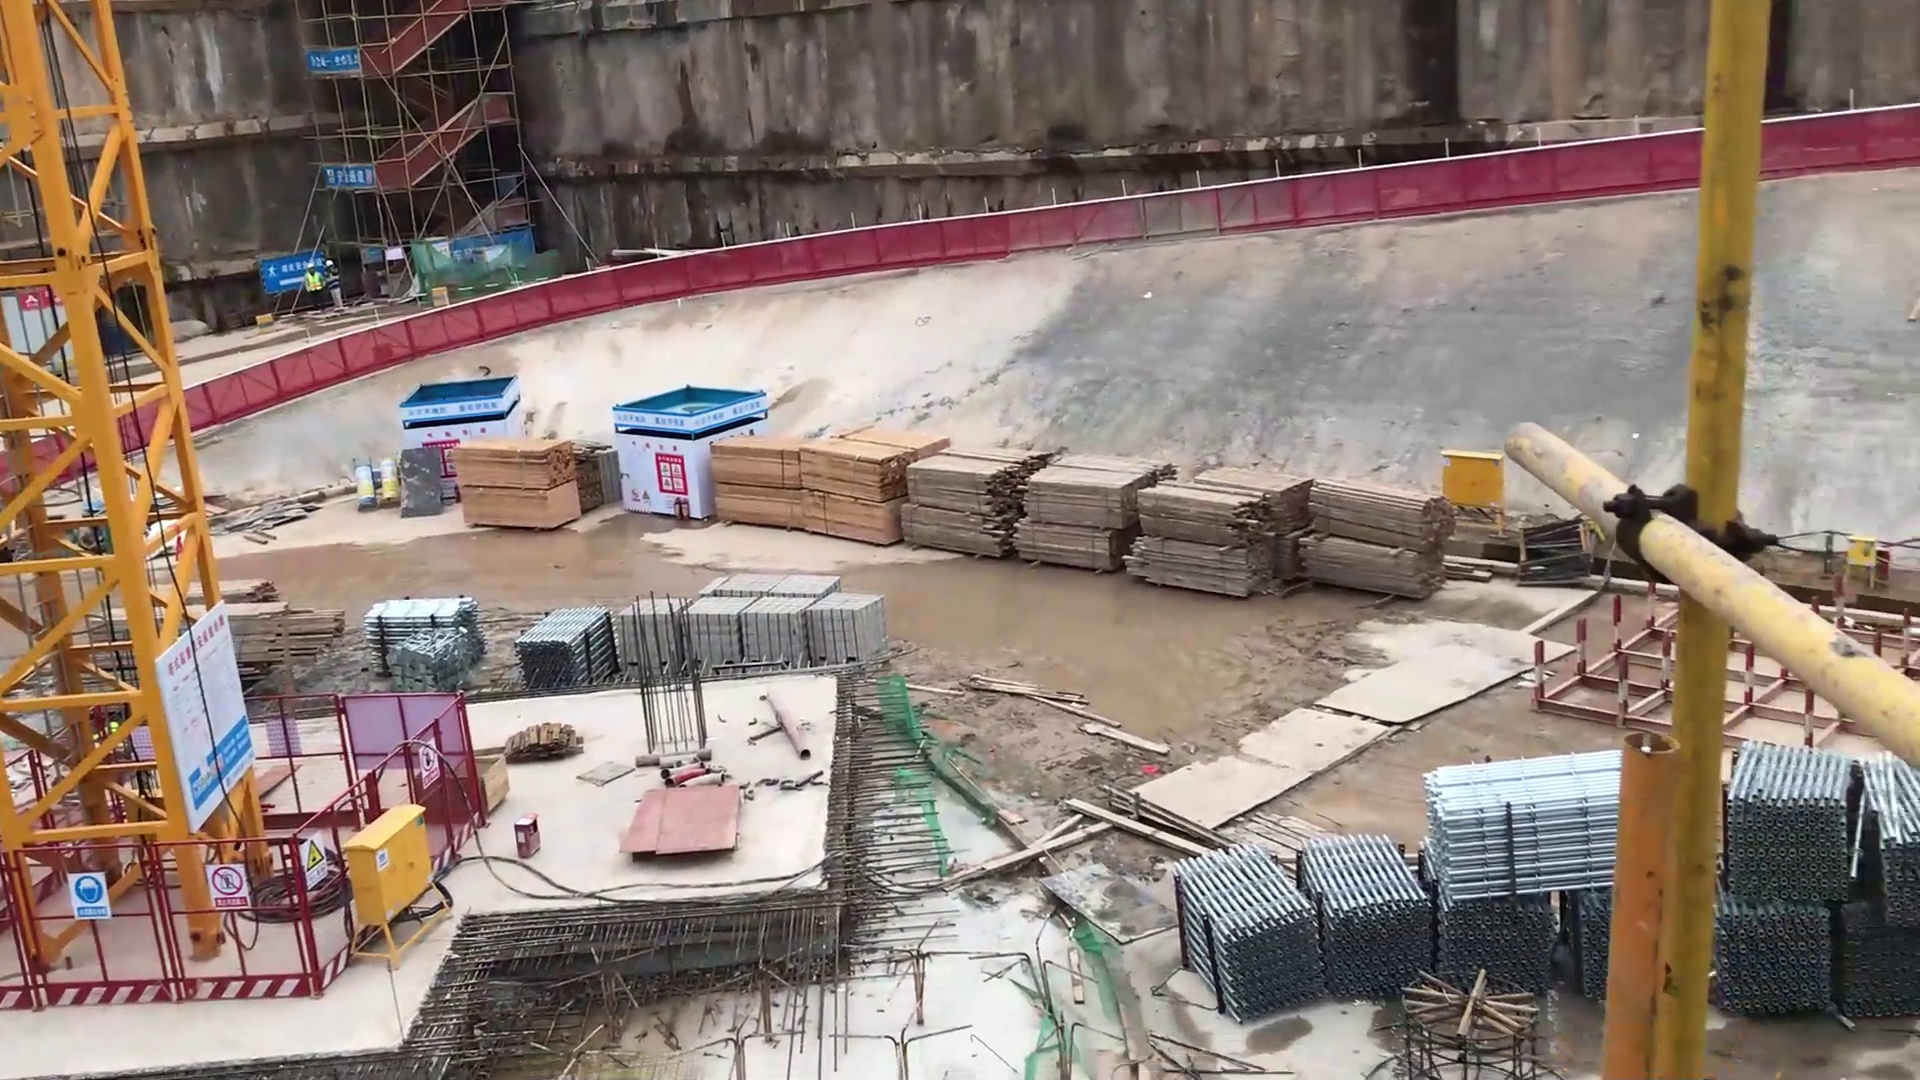board: (608, 779, 763, 865)
brick: (802, 586, 898, 672), (614, 588, 695, 684), (737, 586, 820, 670), (679, 590, 759, 673), (697, 566, 845, 600)
ebox: (344, 799, 456, 972), (1440, 448, 1512, 541), (1843, 529, 1883, 592)
fence: (1136, 134, 1704, 244), (23, 839, 291, 1018)
person: (320, 258, 345, 313), (301, 263, 326, 310)
scaffold: (1417, 750, 1641, 902), (1159, 837, 1325, 1034), (1303, 822, 1441, 1005), (1721, 741, 1873, 901), (1712, 902, 1867, 1031), (1441, 890, 1566, 1001), (366, 589, 484, 685), (518, 601, 618, 687)
slogan: (160, 597, 273, 830), (62, 864, 122, 924), (201, 863, 256, 916), (649, 446, 692, 512), (306, 39, 369, 83), (318, 156, 375, 192), (296, 831, 330, 889), (418, 730, 447, 786)
wood: (1134, 452, 1304, 608), (712, 427, 910, 549), (1303, 461, 1444, 607), (1018, 438, 1151, 586), (911, 438, 1030, 564), (219, 581, 351, 689), (452, 433, 589, 534)
